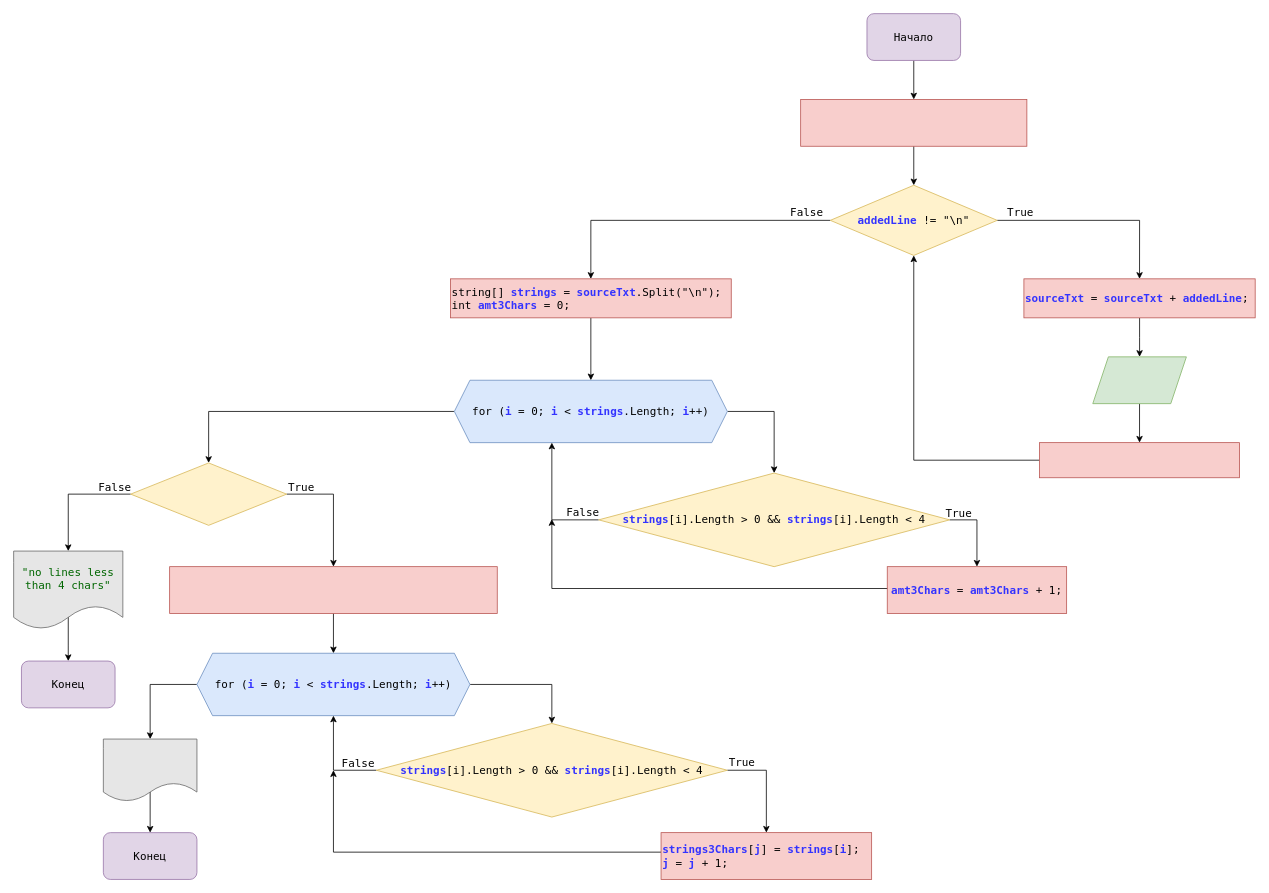
The diagram is 1269 pixels wide and 893 high, and some of its shapes have lost their labels. The centre of each missing label's shape, as x and y in pixels:
addedLine: (1139,380)
addedLine = addedLine + "\n";: (1139,460)
amt3Chars > 0: (208,493)
int i = 0; string sourceTxt = string.Empty; string addedLine = string.Empty;: (913,122)
string[] strings3Chars = new string[ amt3Chars ]; int j = 0;: (333,589)
strings3Char: (150,769)
